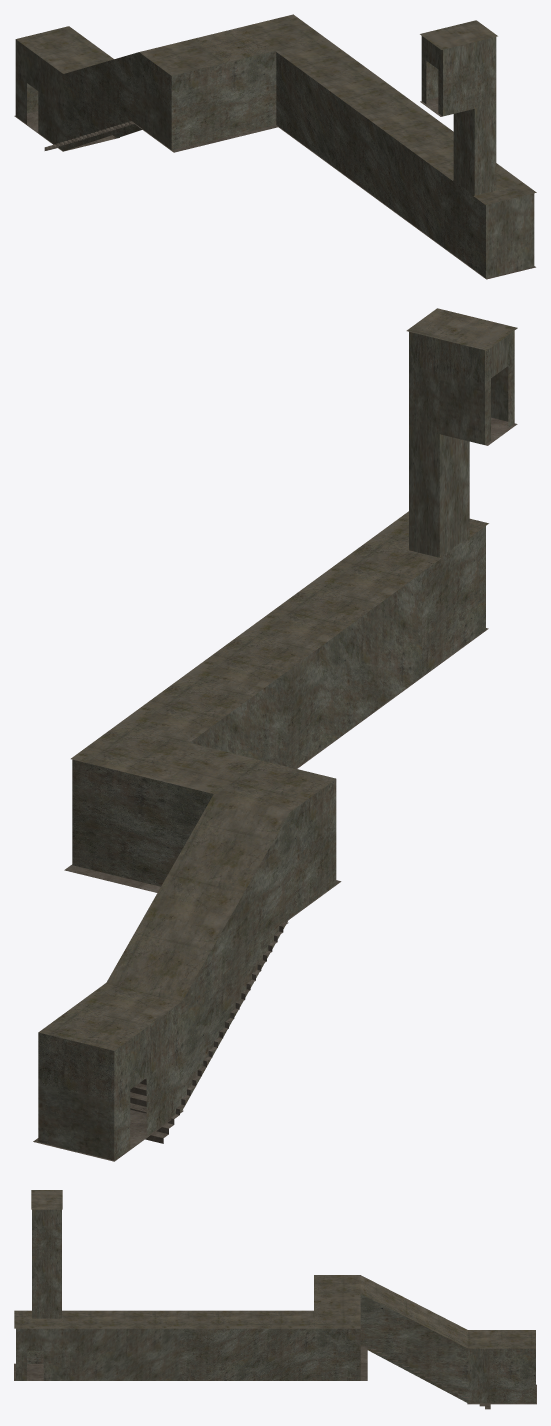
3 renders of one model, top to bottom at view 1: azimuth 30°, elevation 25°; view 2: azimuth 150°, elevation 25°; view 3: azimuth 270°, elevation 25°, orthographic. The views are drawn at different scales.
Parts seen in each view (by area): view 1: LOD_1_Group_0_Sub_3__st3_sTPEastWall02, LOD_1_Group_0_Sub_1__st3_sTPEastCeiling01, LOD_1_Group_0_Sub_2__st3_sTPEastFloor12; view 2: LOD_1_Group_0_Sub_3__st3_sTPEastWall02, LOD_1_Group_0_Sub_1__st3_sTPEastCeiling01, LOD_1_Group_0_Sub_2__st3_sTPEastFloor12; view 3: LOD_1_Group_0_Sub_3__st3_sTPEastWall02, LOD_1_Group_0_Sub_1__st3_sTPEastCeiling01, LOD_1_Group_0_Sub_2__st3_sTPEastFloor12.
Part boxes in pixels (x1,y1,x2,y2): LOD_1_Group_0_Sub_3__st3_sTPEastWall02: [15, 36, 534, 278]; LOD_1_Group_0_Sub_1__st3_sTPEastCeiling01: [16, 14, 536, 204]; LOD_1_Group_0_Sub_2__st3_sTPEastFloor12: [14, 97, 535, 279]; LOD_1_Group_0_Sub_3__st3_sTPEastWall02: [38, 331, 514, 1160]; LOD_1_Group_0_Sub_1__st3_sTPEastCeiling01: [38, 308, 517, 1050]; LOD_1_Group_0_Sub_2__st3_sTPEastFloor12: [33, 417, 517, 1161]; LOD_1_Group_0_Sub_3__st3_sTPEastWall02: [16, 1209, 535, 1403]; LOD_1_Group_0_Sub_1__st3_sTPEastCeiling01: [14, 1190, 535, 1348]; LOD_1_Group_0_Sub_2__st3_sTPEastFloor12: [14, 1346, 536, 1409].
Size of the model in its own units: 8.3 by 16.13 by 33.66.
